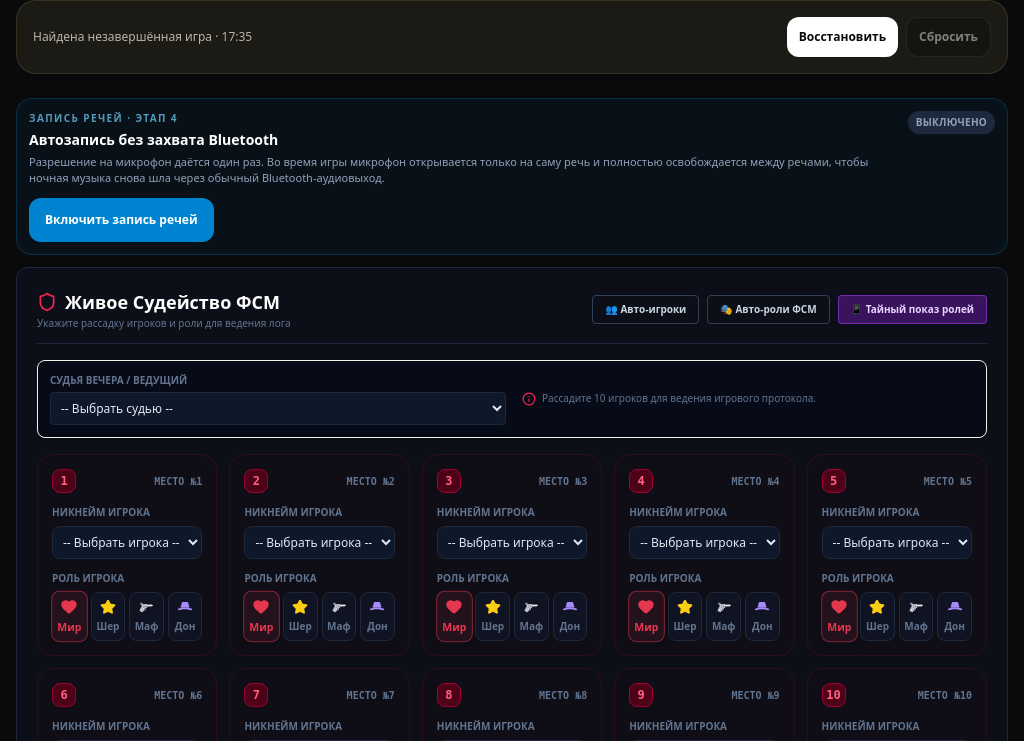
live game emergency recovery › keeps legacy 15-second death-protocol recovery compatible with the canonical 20-second display
Click the button "Восстановить" at coordinates (842, 37), box left=787, top=17, right=898, bottom=57
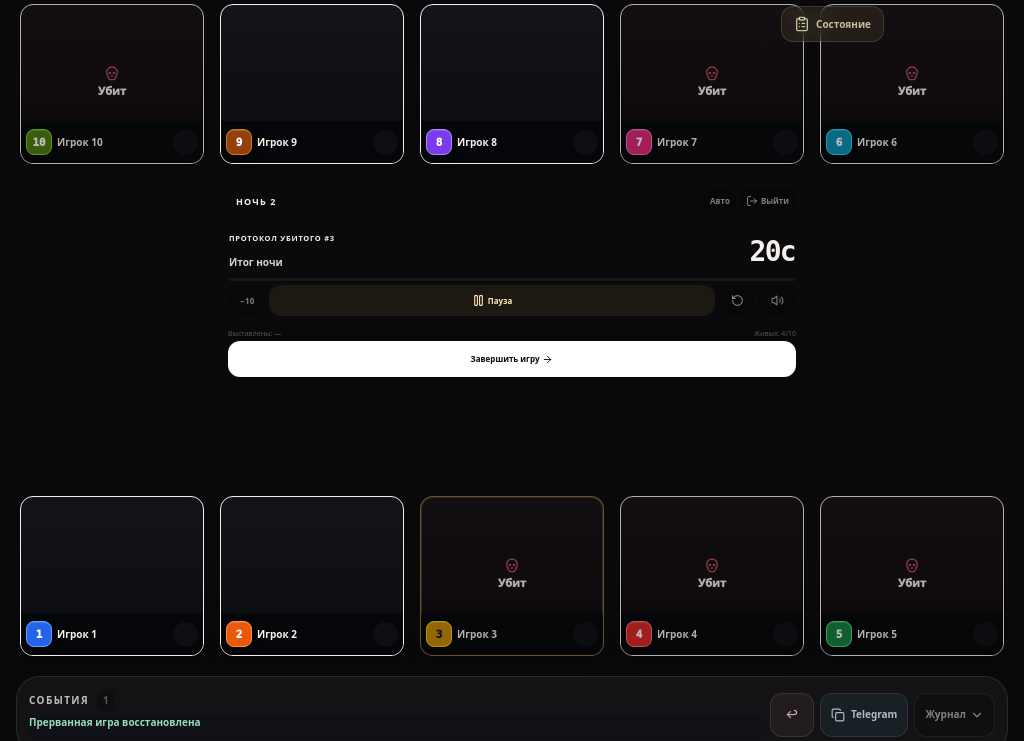
Check: the text "20с" is shown, box left=750, top=234, right=795, bottom=268
